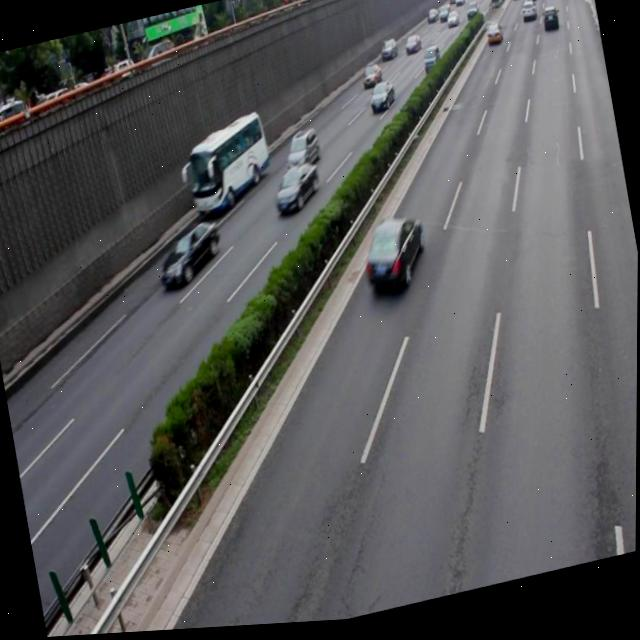car: (355, 213, 431, 299), (152, 218, 223, 292), (268, 162, 321, 217), (280, 127, 321, 177)
van: (180, 114, 275, 214)
